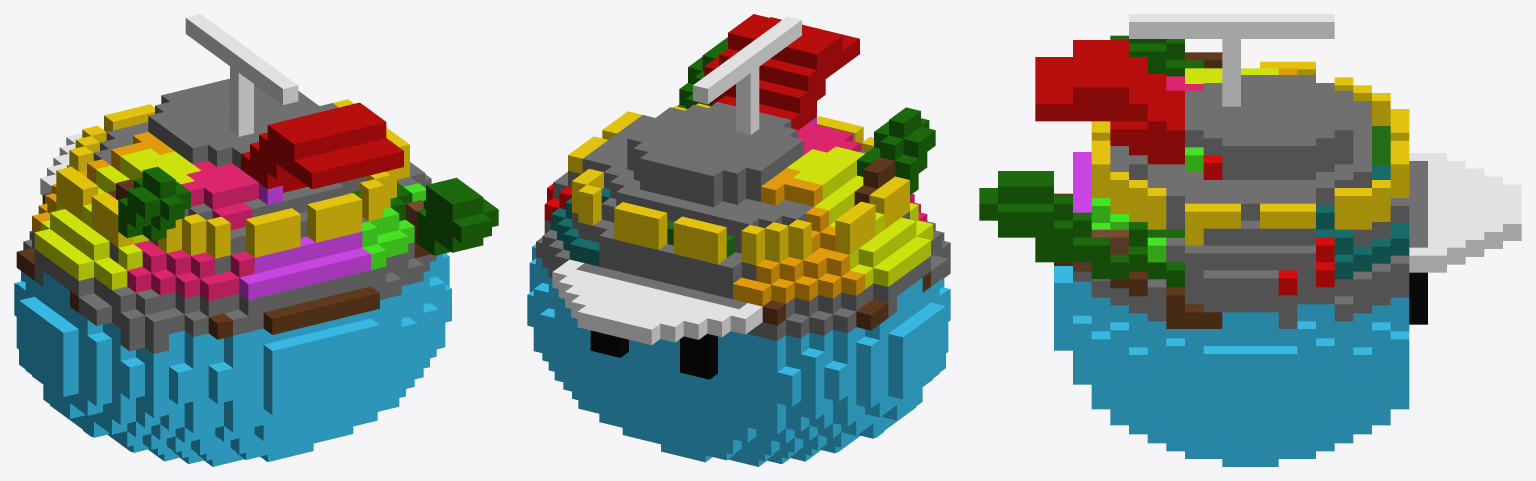
Rendered from hats.gltf.
3 views of the same model, side by side, from view 1: azimuth 30°, elevation 25°; view 2: azimuth 150°, elevation 25°; view 3: azimuth 270°, elevation 25° (orthographic). The views are drawn at different scales.
Parts seen in each view (by area): view 1: Layer.1, Layer.2, Layer.4, Layer.3, Layer.5; view 2: Layer.1, Layer.2, Layer.4, Layer.5, Layer.3; view 3: Layer.2, Layer.1, Layer.4, Layer.3, Layer.5.
Part boxes in pixels (left/top/right/bottom): Layer.1: left=14, top=253, right=451, bottom=466; Layer.2: left=23, top=78, right=436, bottom=353; Layer.4: left=32, top=14, right=425, bottom=300; Layer.3: left=16, top=166, right=498, bottom=339; Layer.5: left=56, top=99, right=409, bottom=258; Layer.1: left=527, top=244, right=950, bottom=466; Layer.2: left=536, top=14, right=950, bottom=341; Layer.4: left=544, top=16, right=933, bottom=345; Layer.5: left=568, top=103, right=909, bottom=265; Layer.3: left=677, top=37, right=935, bottom=330; Layer.2: left=1035, top=40, right=1427, bottom=328; Layer.1: left=1054, top=266, right=1427, bottom=466; Layer.4: left=1073, top=14, right=1521, bottom=295; Layer.3: left=979, top=35, right=1222, bottom=328; Layer.5: left=1091, top=61, right=1409, bottom=245.
Bounding box in the file's own units: 25 × 24 × 29.
1 material, 1 textured.
